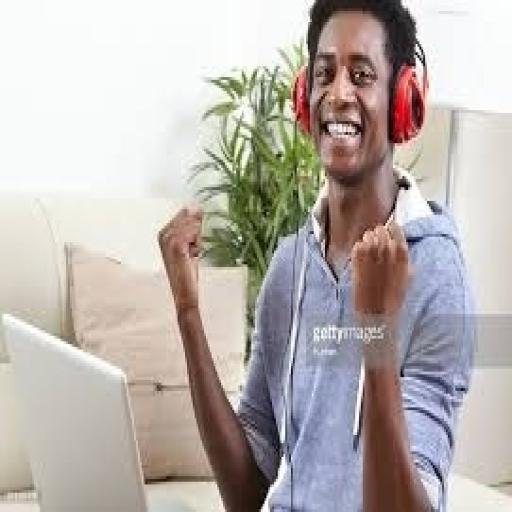listening_to_music: (155, 0, 478, 509)
